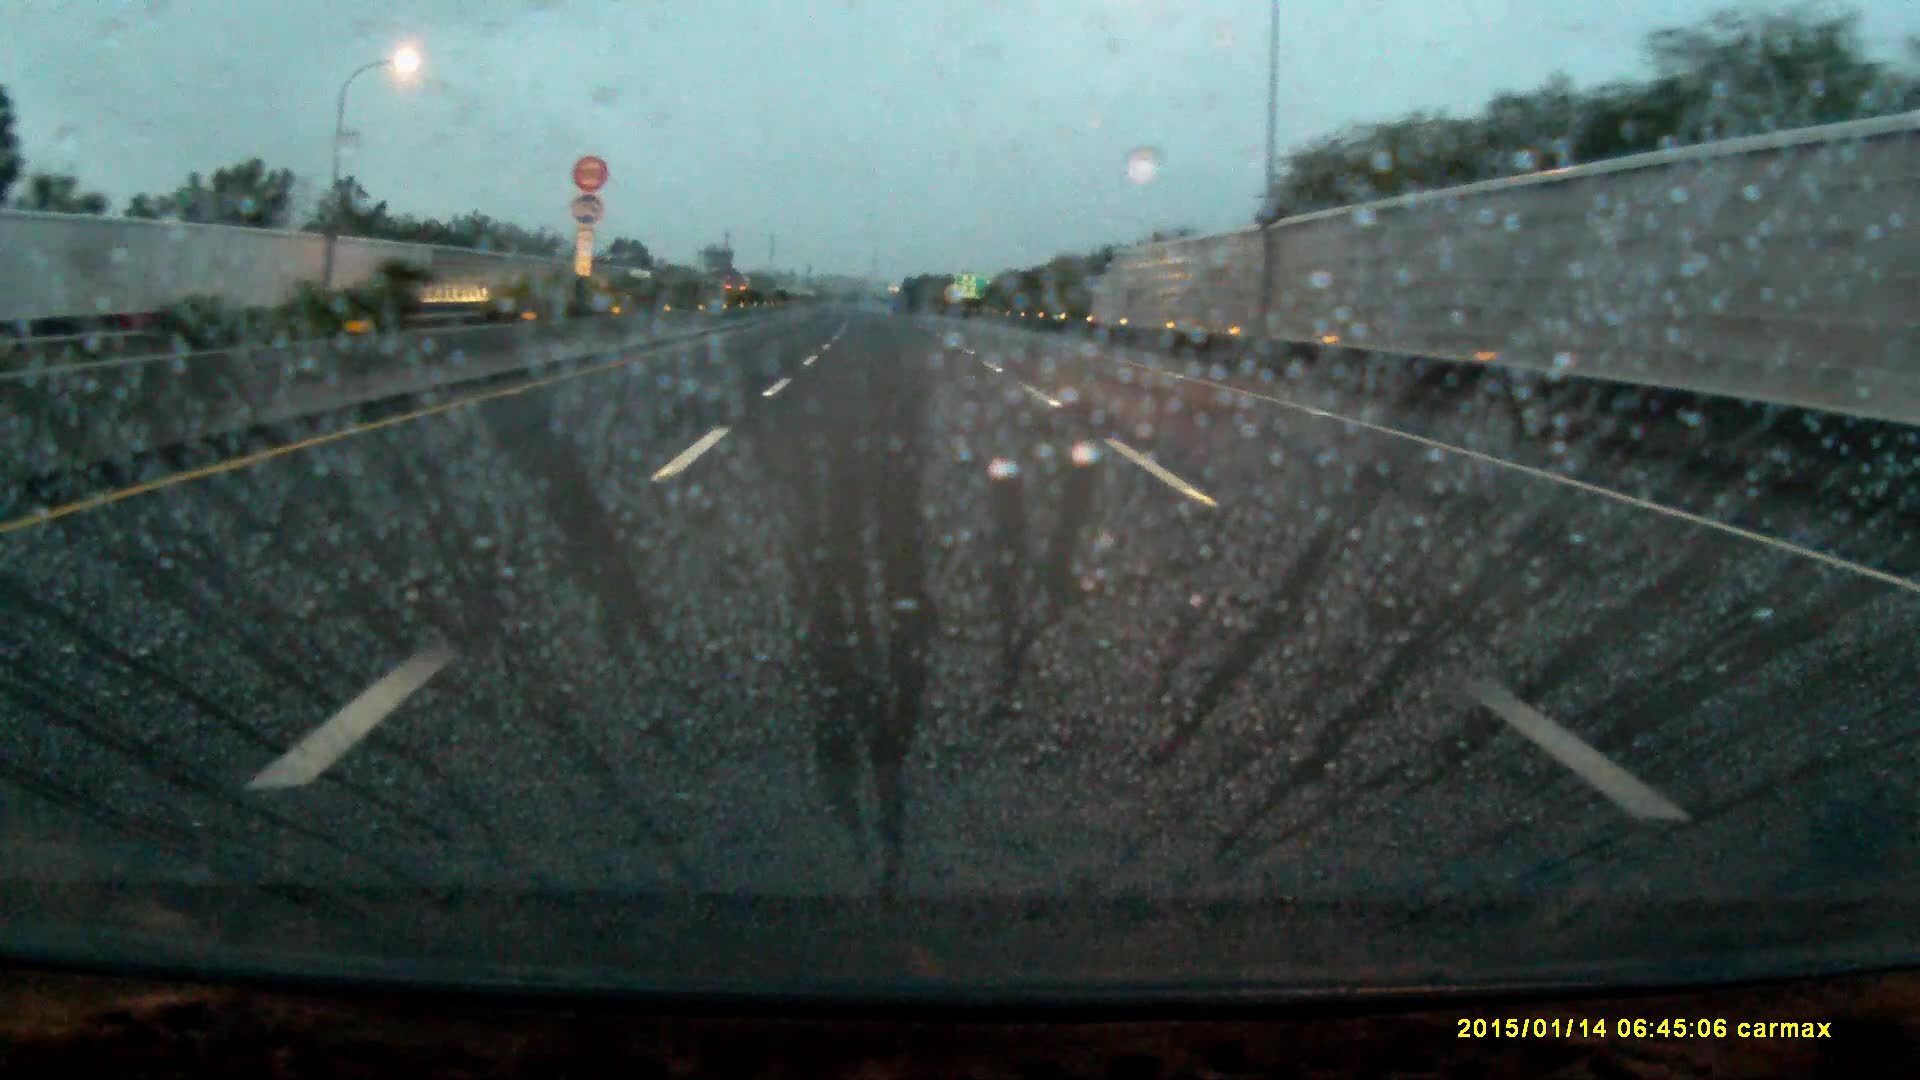vehicle: (725, 284, 756, 310)
